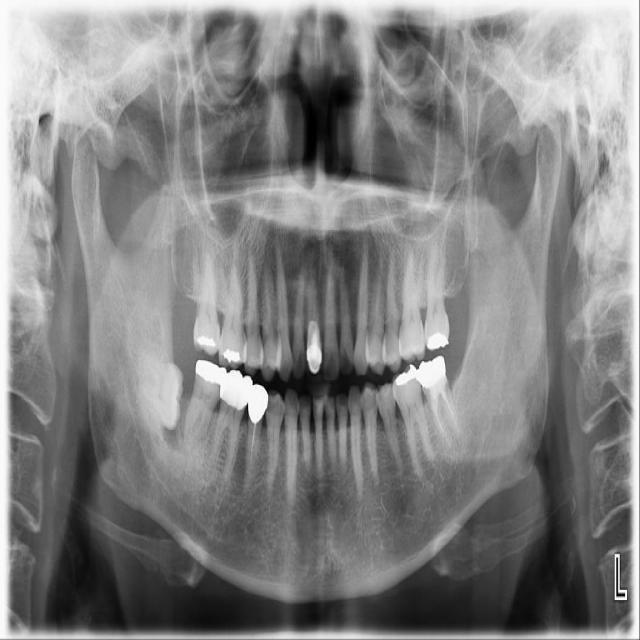Crown: (219, 369, 253, 411), (417, 355, 448, 395), (195, 359, 227, 384), (248, 384, 268, 423)
Filling: (307, 322, 323, 377), (395, 365, 419, 388), (427, 330, 449, 350), (195, 333, 219, 351), (222, 347, 245, 365)
Root Canal Treatment: (433, 399, 449, 439), (443, 395, 456, 430), (247, 422, 254, 482)
impacted tooth: (134, 339, 185, 428)
